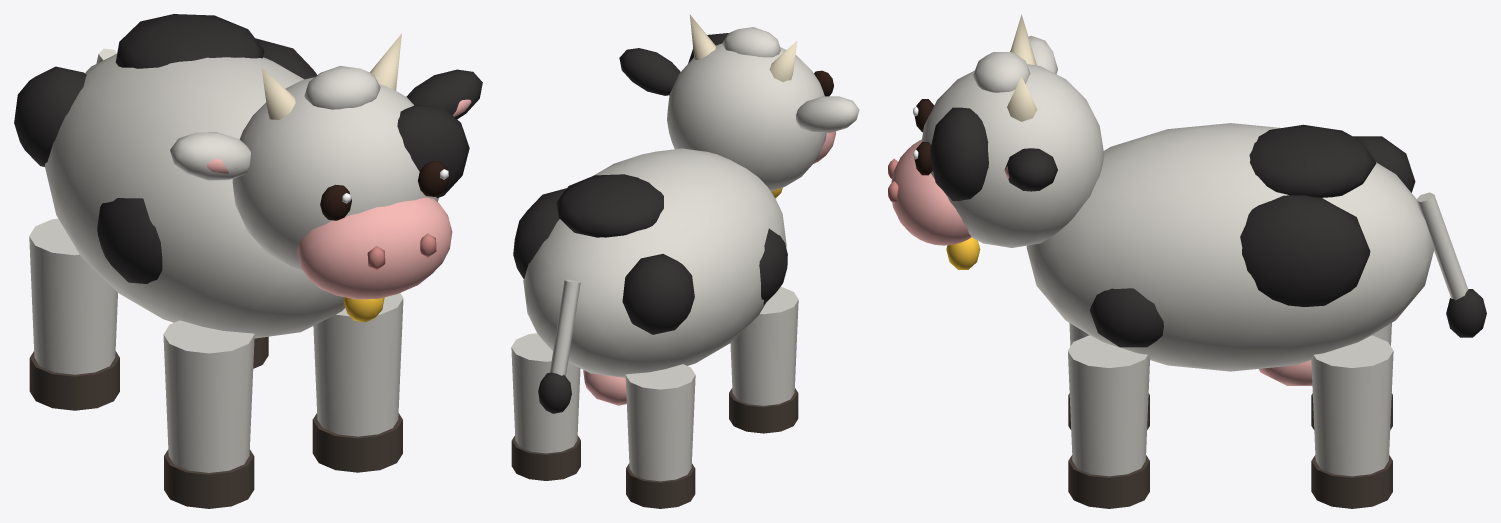
Rendered from cow.glb.
3 views of the same model, side by side, from view 1: azimuth 30°, elevation 25°; view 2: azimuth 150°, elevation 25°; view 3: azimuth 270°, elevation 25° (orthographic). The views are drawn at different scales.
Parts seen in each view (by area): view 1: Cow_Body, Cow_Head, Cow_Leg_FL, Cow_Leg_BL, Cow_Leg_FR; view 2: Cow_Body, Cow_Head, Cow_Leg_BL, Cow_Leg_FL, Cow_Leg_BR, Cow_Tail; view 3: Cow_Body, Cow_Head, Cow_Leg_BR, Cow_Leg_FR, Cow_Tail.
Boxes of the visible parts, x1,y1,x2,y2 form: Cow_Body: [14, 14, 345, 338]; Cow_Head: [170, 33, 482, 322]; Cow_Leg_FL: [163, 320, 254, 508]; Cow_Leg_BL: [29, 218, 119, 410]; Cow_Leg_FR: [312, 293, 403, 472]; Cow_Body: [513, 148, 787, 405]; Cow_Head: [619, 14, 859, 198]; Cow_Leg_BL: [625, 364, 695, 508]; Cow_Leg_FL: [729, 286, 798, 433]; Cow_Leg_BR: [511, 333, 580, 480]; Cow_Tail: [538, 279, 580, 413]; Cow_Body: [1026, 123, 1434, 385]; Cow_Head: [888, 14, 1104, 269]; Cow_Leg_BR: [1311, 335, 1393, 508]; Cow_Leg_FR: [1068, 335, 1149, 508]; Cow_Tail: [1416, 192, 1486, 337].
Size of the model in its own units: 0.6546 by 0.939 by 1.23.
